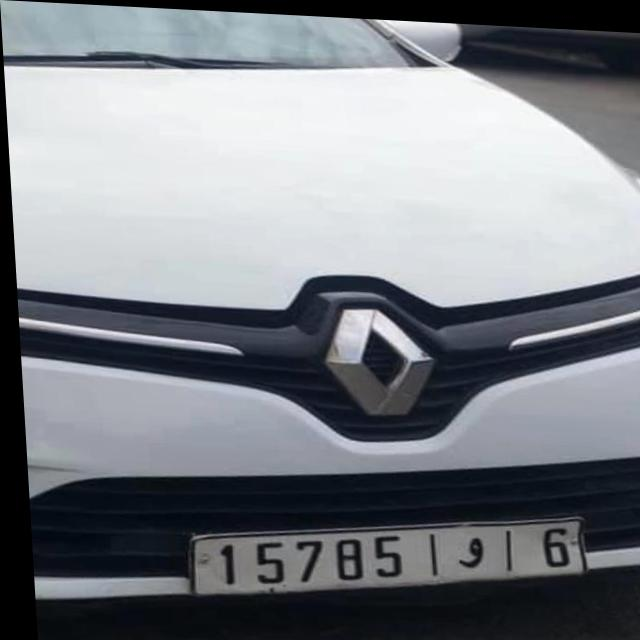License-Plate: (183, 511, 580, 593)
